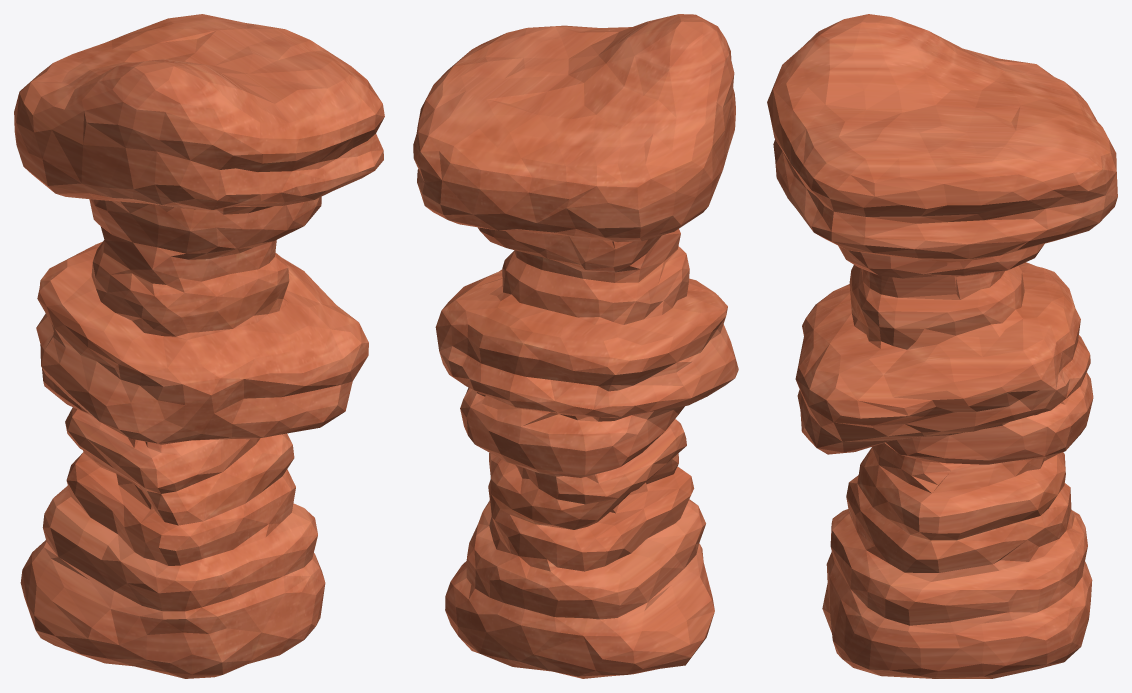
File: big Rock.fbx
3 views of the same model, side by side, from view 1: azimuth 30°, elevation 25°; view 2: azimuth 150°, elevation 25°; view 3: azimuth 270°, elevation 25° (orthographic). The views are drawn at different scales.
Visible parts, largest first — view 1: Cube.006; view 2: Cube.006; view 3: Cube.006.
Part boxes in pixels (x1=…): Cube.006: x1=14, y1=14, x2=384, y2=678; Cube.006: x1=413, y1=14, x2=738, y2=678; Cube.006: x1=767, y1=14, x2=1117, y2=678.
Bounding box in the file's own units: 454 × 912 × 486.
